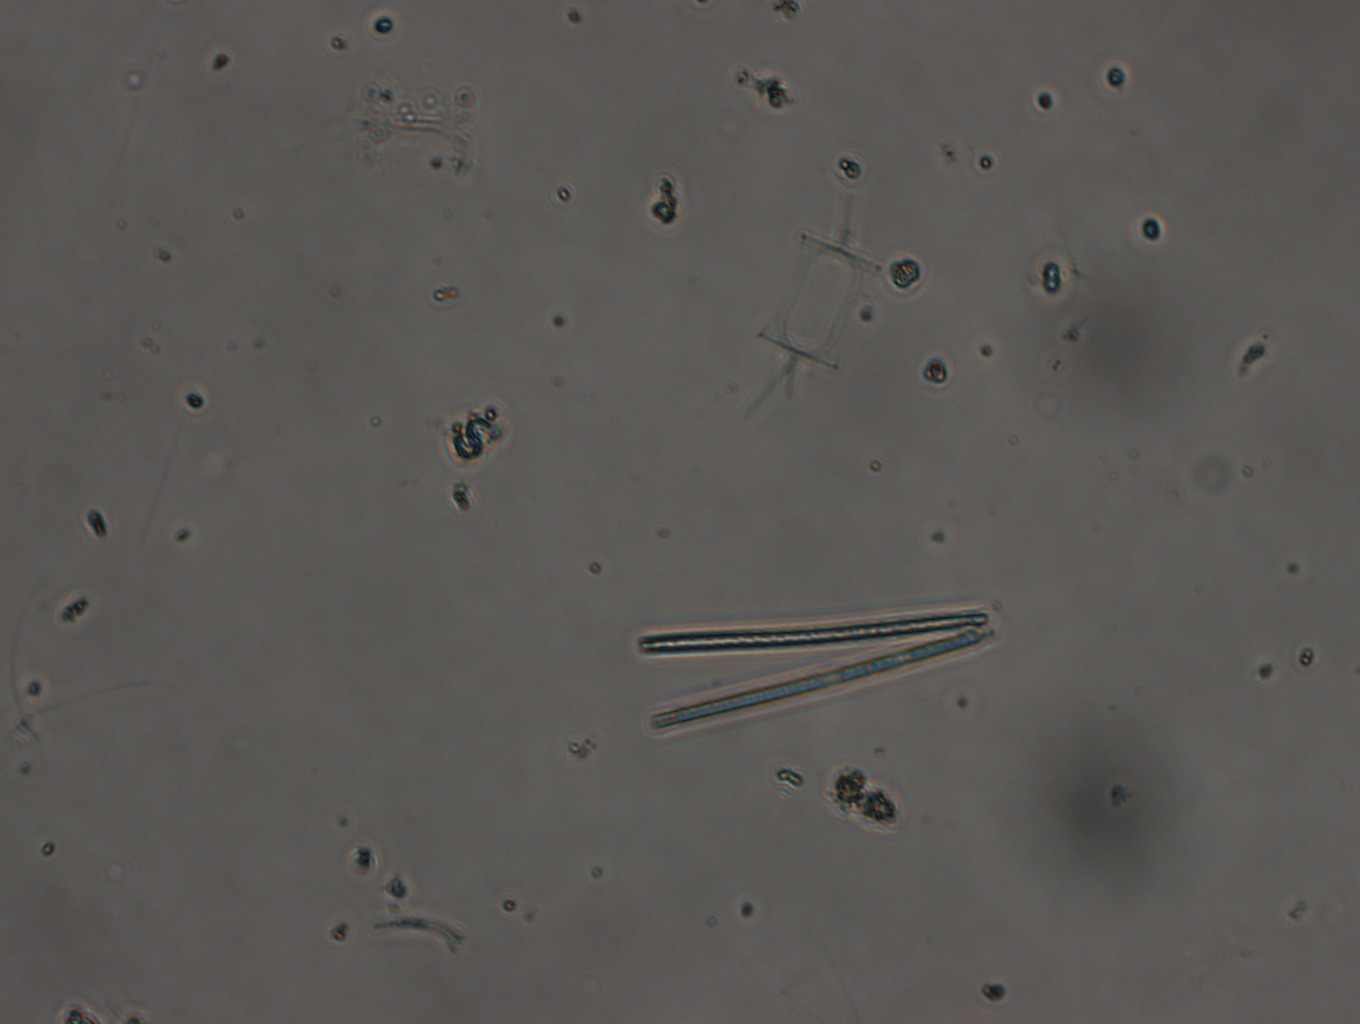thalassionema frauenfeldii: (630, 597, 1006, 743)
